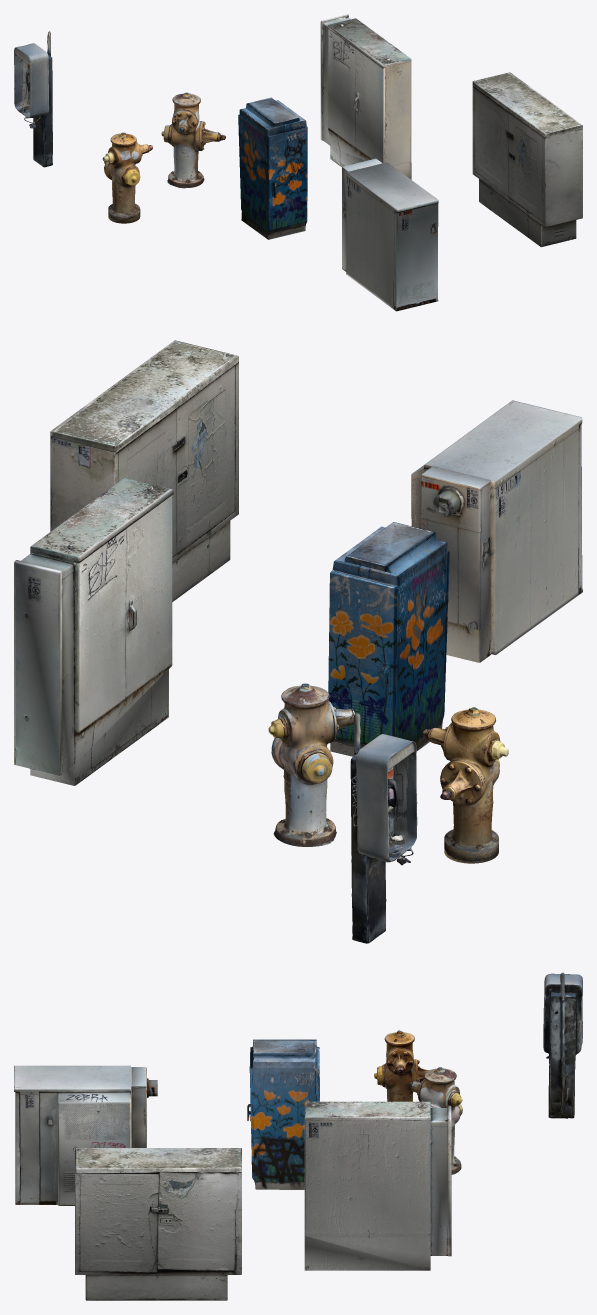
The model's file is city_prop_pack_lowpoly.glb.
3 views of the same model, one above another, from view 1: azimuth 30°, elevation 25°; view 2: azimuth 150°, elevation 25°; view 3: azimuth 270°, elevation 25° (orthographic). The views are drawn at different scales.
Visible parts, largest first — view 1: ElectricBox3, ElectricBox2, ElectricBoxLOW, PaintedElectricBox, Payphone, Hydrant2, hydrant1; view 2: ElectricBox2, ElectricBoxLOW, ElectricBox3, PaintedElectricBox, Payphone, Hydrant2, hydrant1; view 3: ElectricBox3, ElectricBox2, ElectricBoxLOW, PaintedElectricBox, Payphone, hydrant1, Hydrant2.
Boxes of the visible parts, x1,y1,x2,y2 form: ElectricBox3: [472, 72, 582, 247]; ElectricBox2: [320, 14, 411, 179]; ElectricBoxLOW: [342, 158, 438, 311]; PaintedElectricBox: [238, 97, 307, 239]; Payphone: [14, 31, 52, 167]; Hydrant2: [161, 92, 225, 188]; hydrant1: [102, 132, 152, 223]; ElectricBox2: [14, 477, 173, 785]; ElectricBoxLOW: [411, 400, 582, 662]; ElectricBox3: [50, 340, 238, 601]; PaintedElectricBox: [328, 522, 449, 756]; Payphone: [350, 713, 417, 943]; Hydrant2: [268, 683, 360, 846]; hydrant1: [422, 707, 508, 863]; ElectricBox3: [75, 1148, 241, 1300]; ElectricBox2: [304, 1101, 451, 1270]; ElectricBoxLOW: [14, 1065, 157, 1205]; PaintedElectricBox: [247, 1039, 319, 1189]; Payphone: [543, 972, 582, 1118]; hydrant1: [374, 1030, 429, 1101]; Hydrant2: [408, 1067, 462, 1174].
Size of the model in its own units: 5.73 by 2.17 by 7.02.
Materials: 7 (7 with a texture image).
